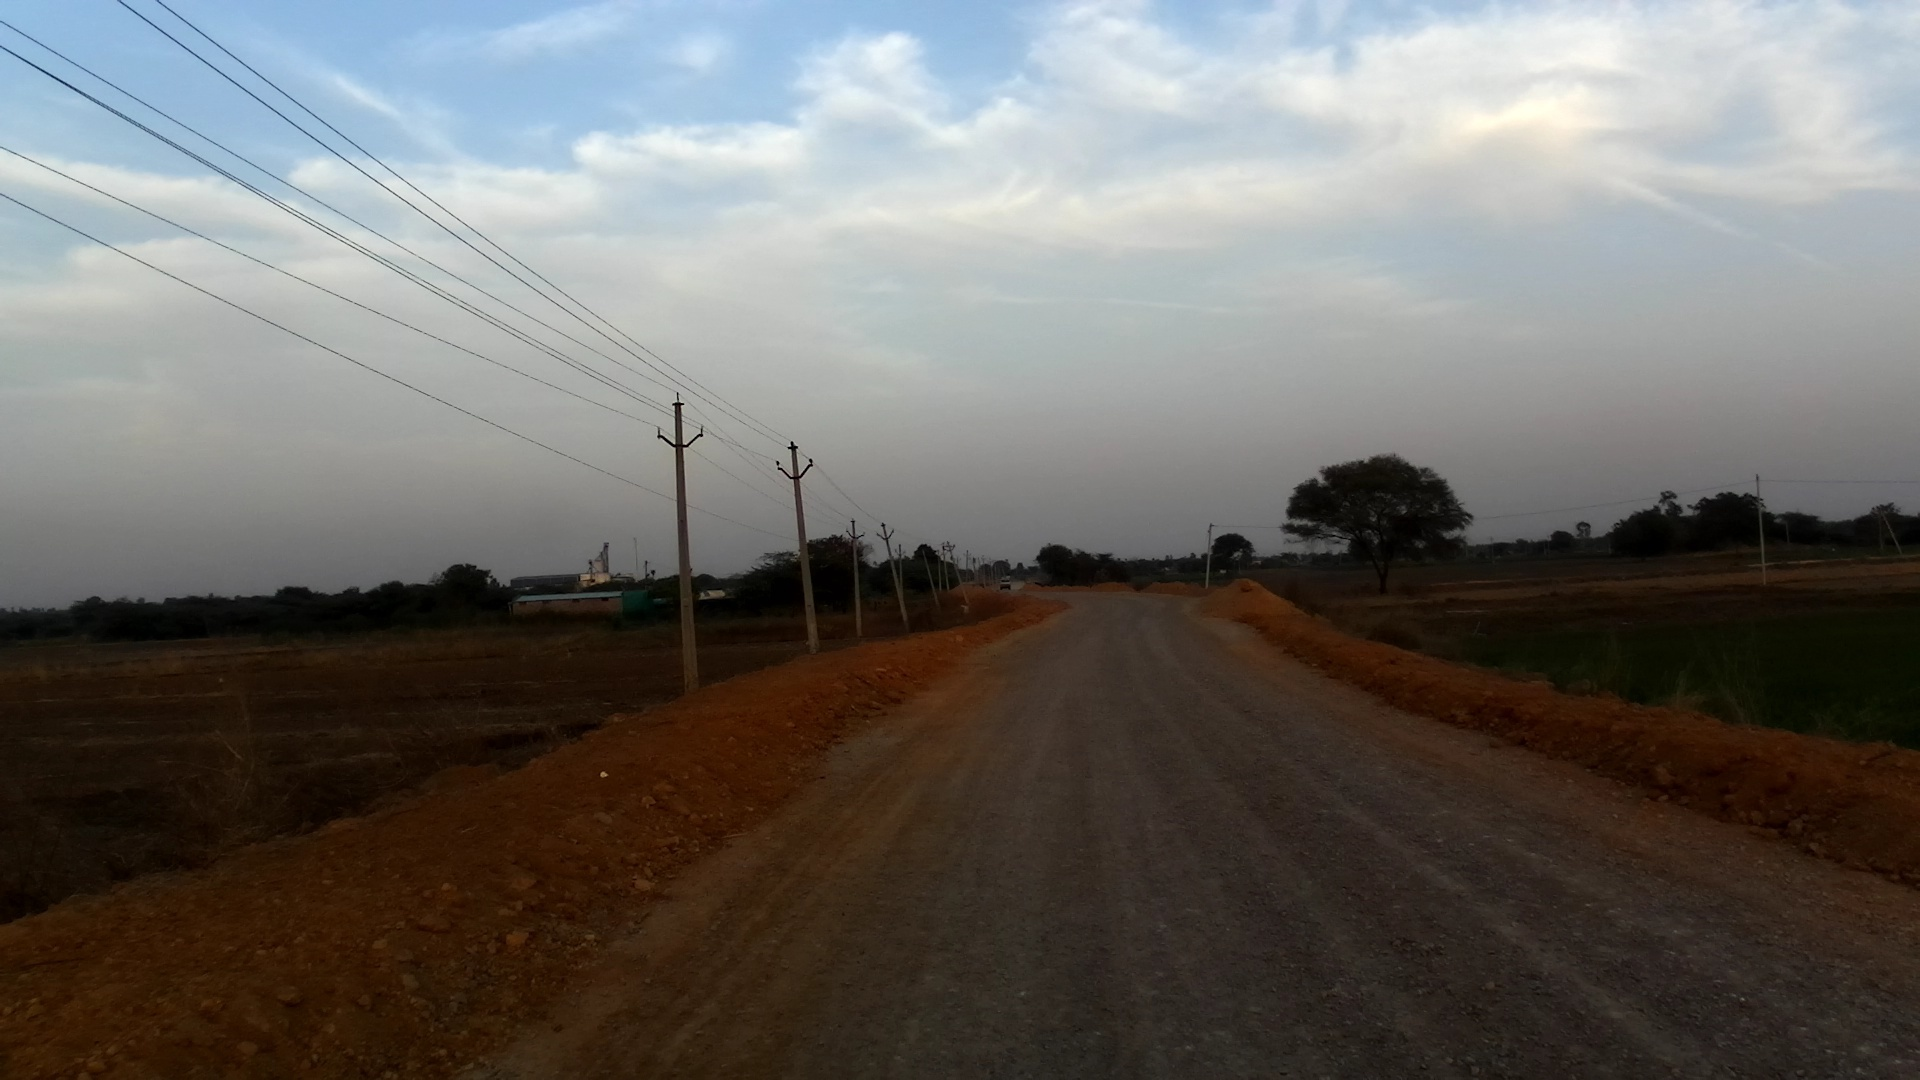truck: (996, 574, 1014, 593)
